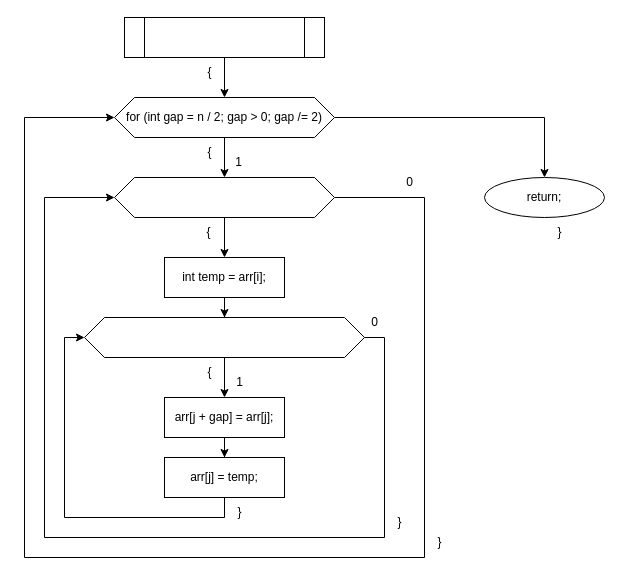
Some shapes in this 622 by 583 pixel diagram are drawn without their labels. The centre of each missing label's shape, as x and y in pixels:
"for (int i = gap; i < n; i++)" goes at [224,197].
"for (int j = i - gap; j >= 0 && temp < arr[j]; j -= gap)" goes at [224,337].
"void shell_sort(int* arr, int n)" goes at [224,37].
